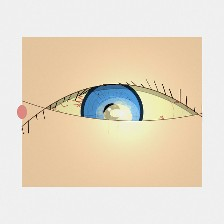corneal_ulcer: (95, 98, 141, 134)
